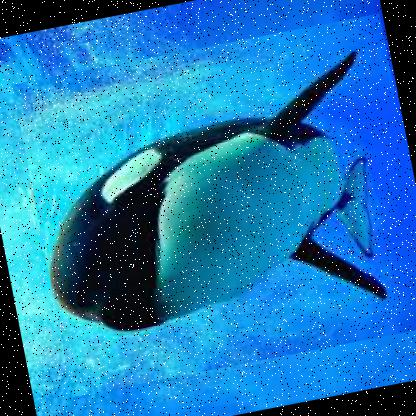killer_whale: (11, 10, 415, 396)
